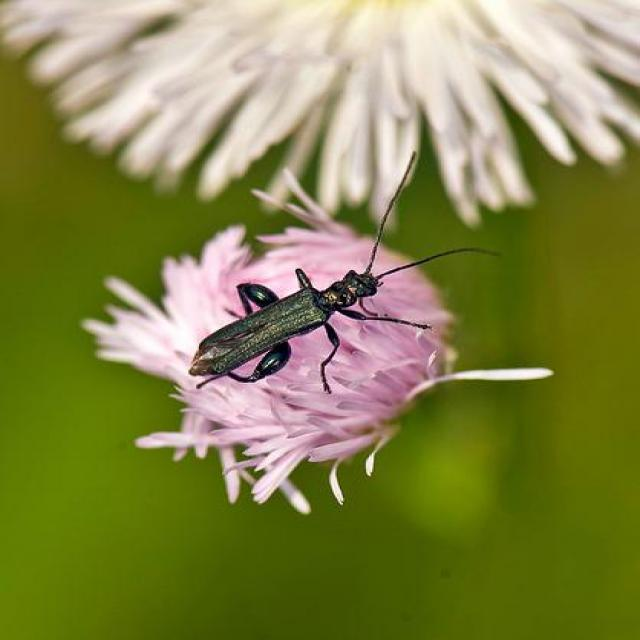BlisterBeetle-Adult-: (174, 152, 450, 395)
